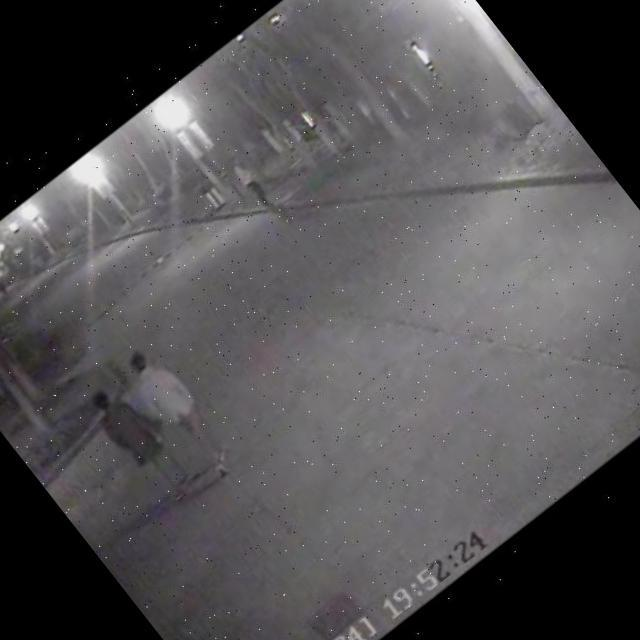person: (100, 322, 258, 500), (71, 366, 206, 518), (208, 143, 284, 224)
